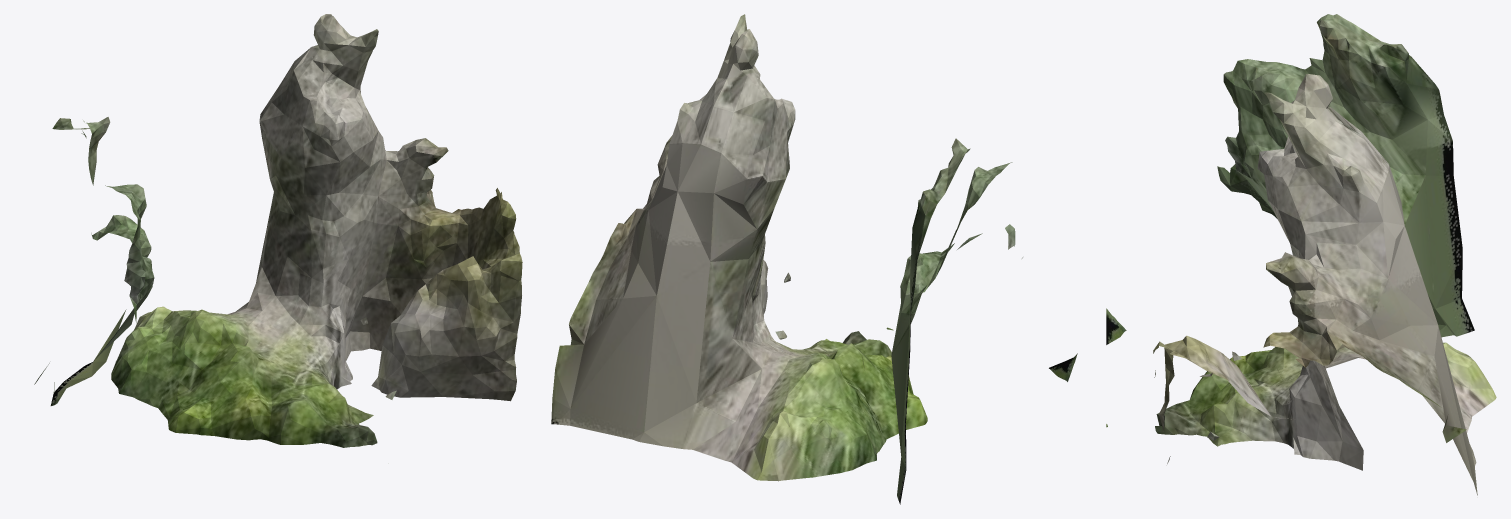
3 views of the same model, side by side, from view 1: azimuth 30°, elevation 25°; view 2: azimuth 150°, elevation 25°; view 3: azimuth 270°, elevation 25° (orthographic). The views are drawn at different scales.
Size of the model in its own units: 11.8 by 11.8 by 11.16.
Materials: 5 (5 with a texture image).
